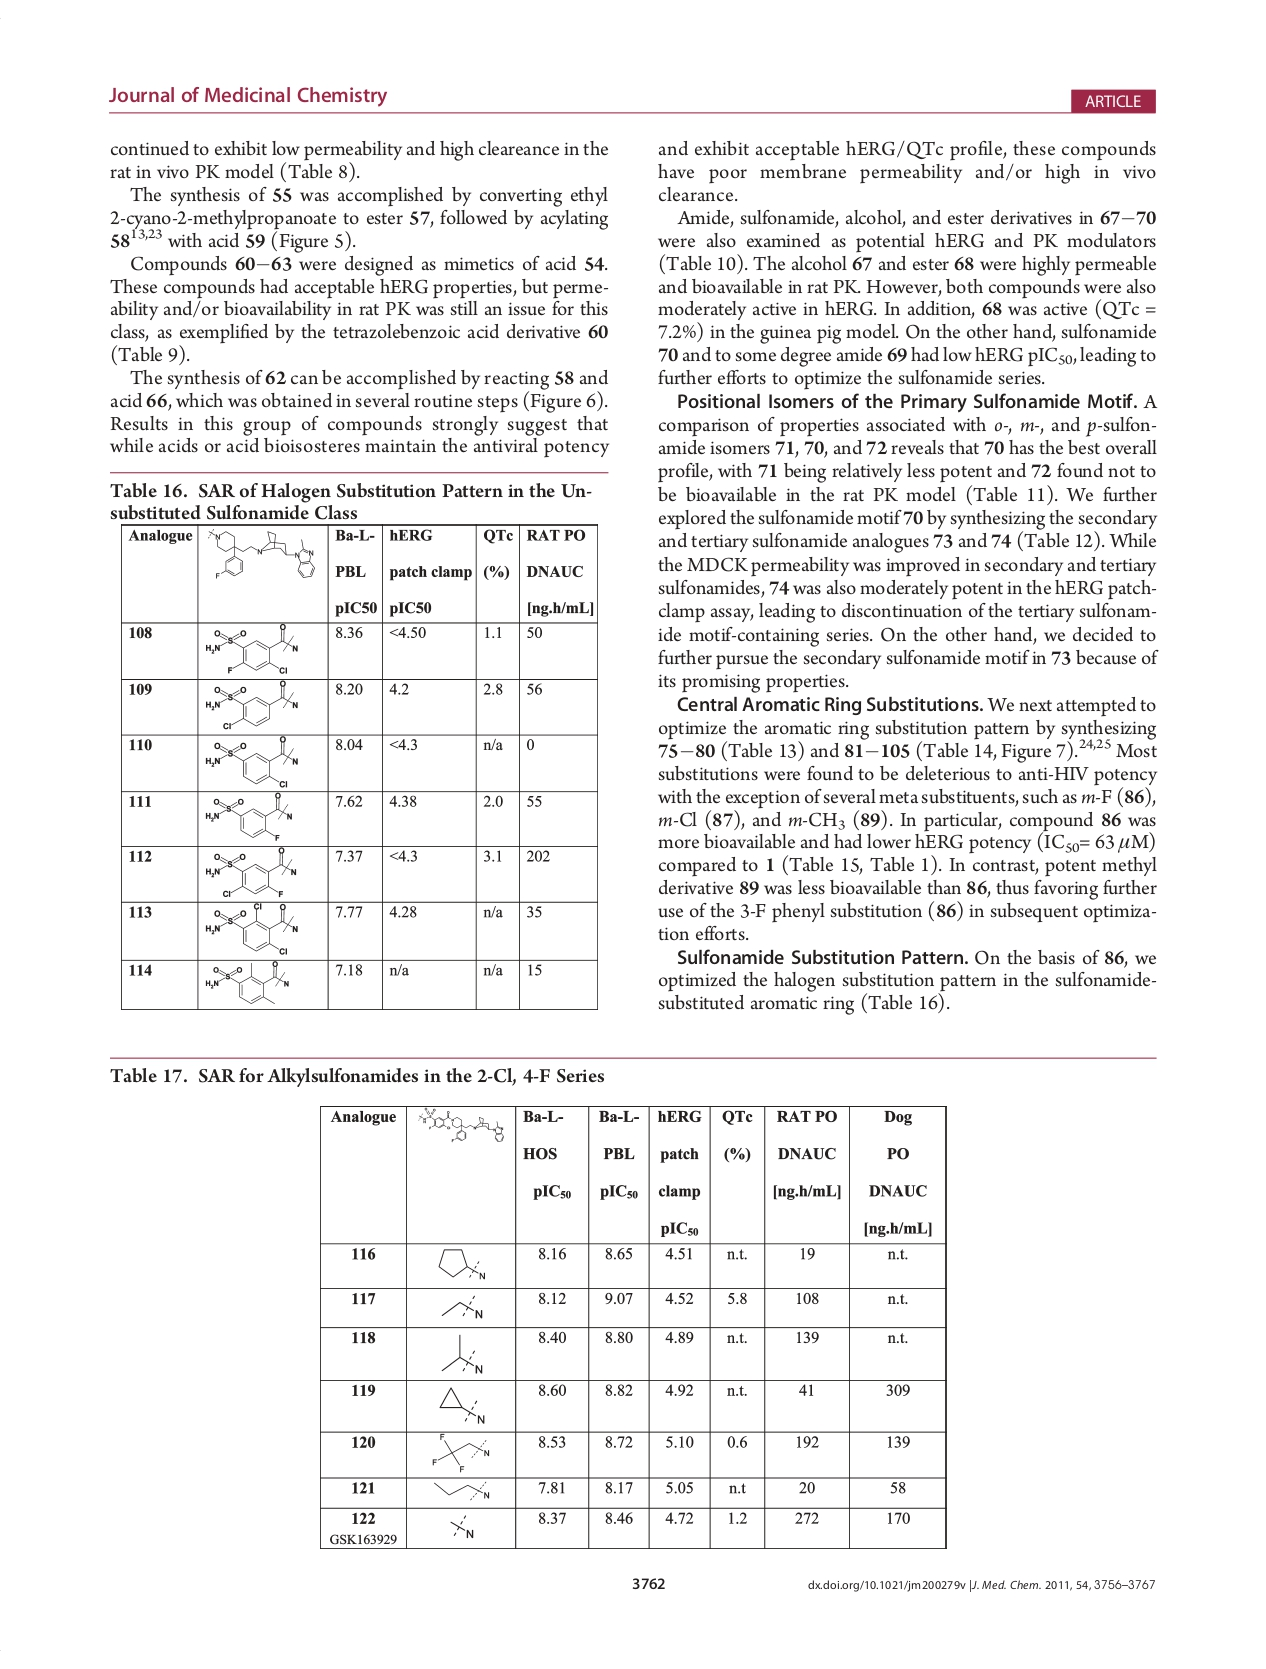exist_molecular: (205, 527, 318, 581), (203, 735, 303, 789), (205, 902, 302, 956), (205, 622, 301, 674), (203, 680, 301, 729), (203, 847, 298, 896), (203, 793, 295, 842), (203, 962, 291, 1005), (414, 1106, 505, 1148), (430, 1432, 491, 1474), (435, 1384, 485, 1428), (438, 1333, 483, 1376), (434, 1247, 485, 1285), (442, 1293, 485, 1321), (432, 1481, 489, 1503), (448, 1513, 473, 1540)
